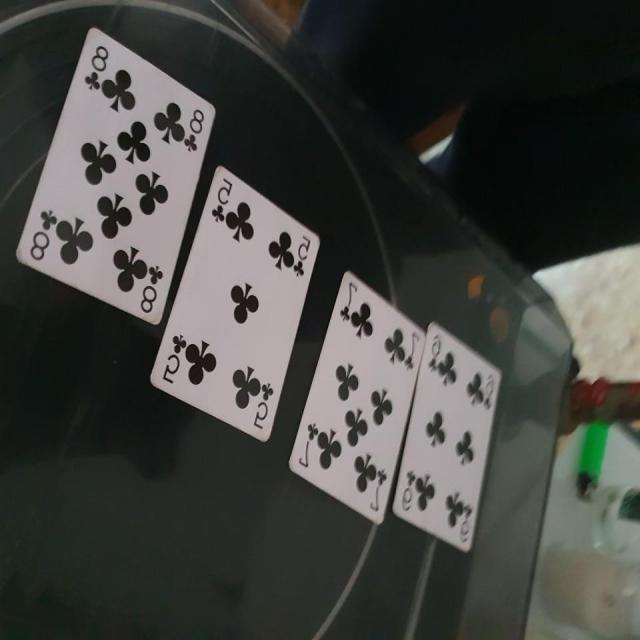5 of clubs: (146, 168, 320, 447)
6 of clubs: (391, 320, 503, 555)
7 of clubs: (285, 271, 429, 525)
8 of clubs: (18, 27, 218, 326)
